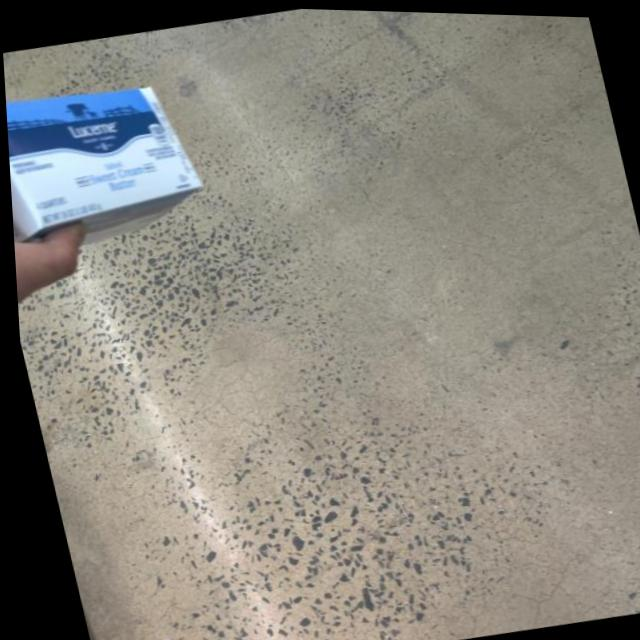Butter: (3, 69, 216, 258)
